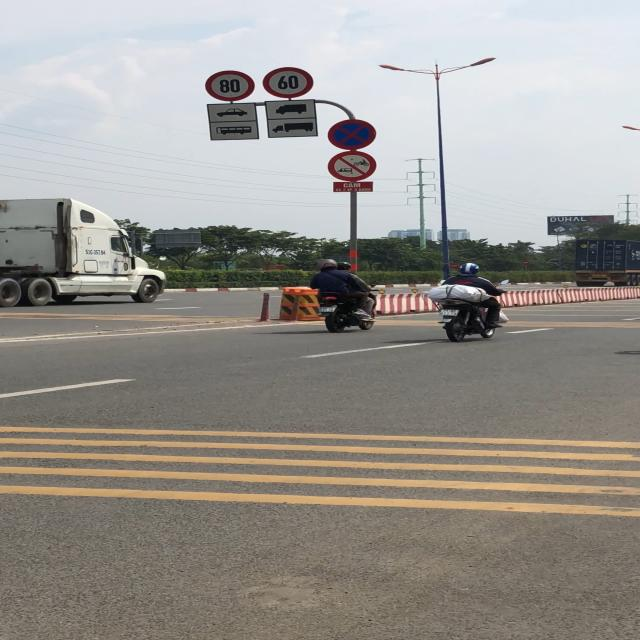Bien bao cam dung xe va do xe: (328, 118, 376, 150)
Bien bao toc do toi da cho phep: (260, 66, 316, 99), (203, 70, 258, 100)
